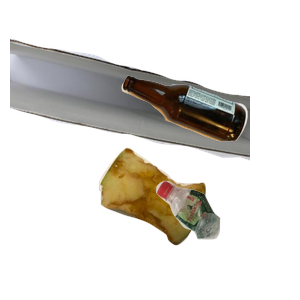cardboard: (10, 35, 250, 188)
glass: (119, 73, 300, 207)
plastic: (153, 178, 300, 300)
trash: (96, 145, 295, 300)
